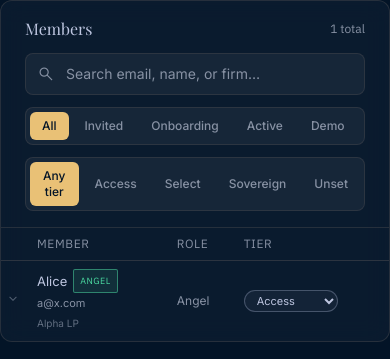
Test: <MembersTable /> — filtering › shows empty-state when no rows match the filters
Type "nonexistent" into the field with placeholder "Search email, name, or firm…". click: (195, 74)
box: [25,53,365,95]
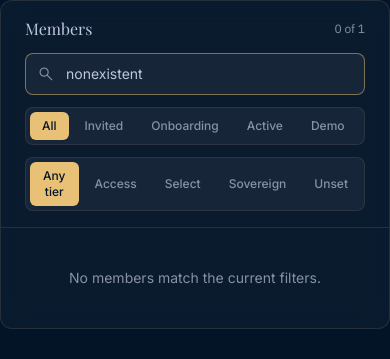
Now the text "No members match the current filters." is shown, box [69,269,321,286]
